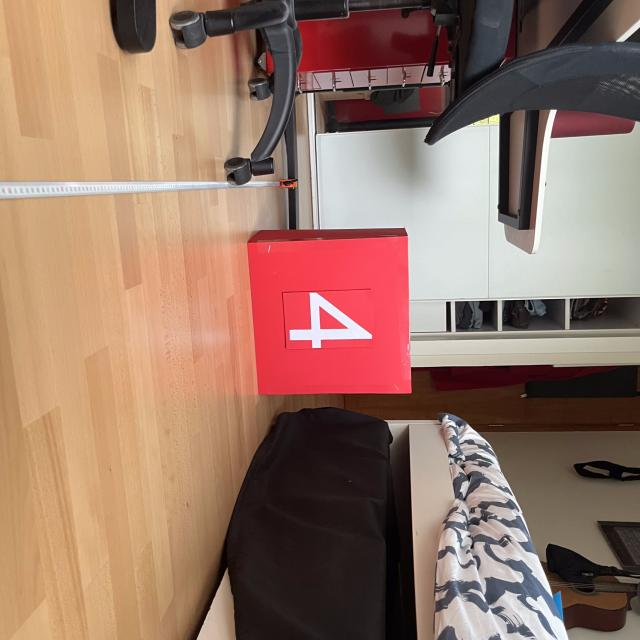box: (242, 224, 416, 398)
